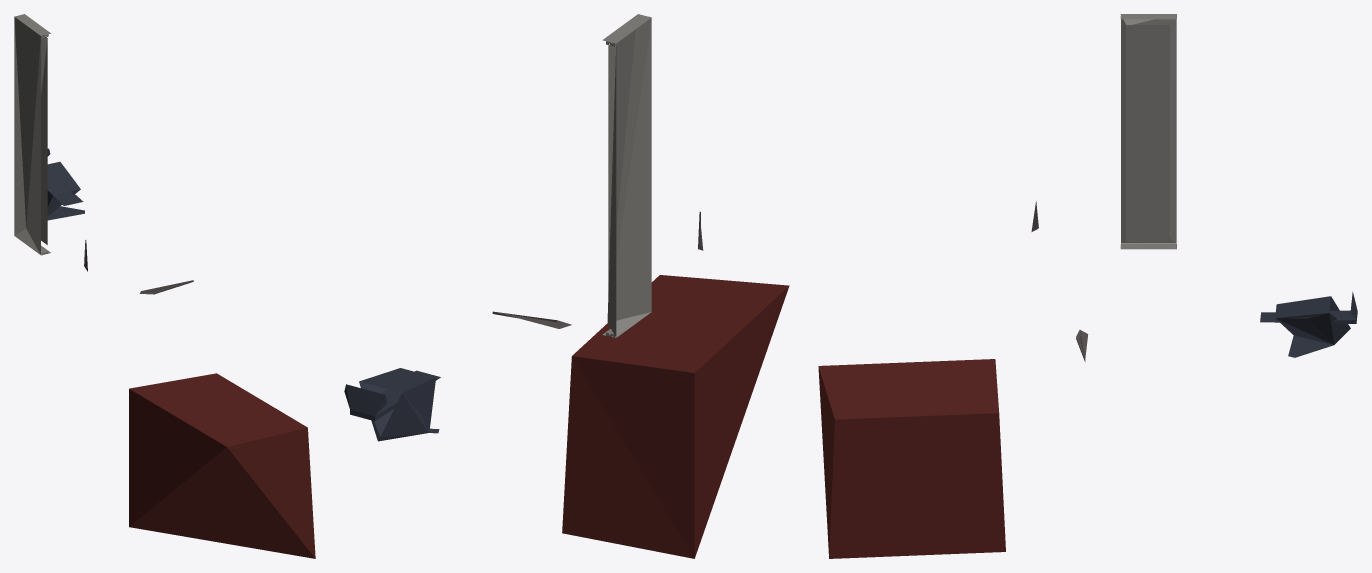
The model's file is workbench.lod2.glb.
3 renders of one model, left to right at view 1: azimuth 30°, elevation 25°; view 2: azimuth 150°, elevation 25°; view 3: azimuth 270°, elevation 25°, orthographic. The views are drawn at different scales.
Parts seen in each view (by area): view 1: Light_Fixture_Base_low_Mat_Light_Fixture_0; view 2: Light_Fixture_Base_low_Mat_Light_Fixture_0; view 3: Light_Fixture_Base_low_Mat_Light_Fixture_0.
Part boxes in pixels (<box>): Light_Fixture_Base_low_Mat_Light_Fixture_0: <box>14,14,315,558</box>; Light_Fixture_Base_low_Mat_Light_Fixture_0: <box>344,14,789,558</box>; Light_Fixture_Base_low_Mat_Light_Fixture_0: <box>818,14,1357,558</box>.
Bounding box in the file's own units: 0.584 × 1.87 × 1.92.
